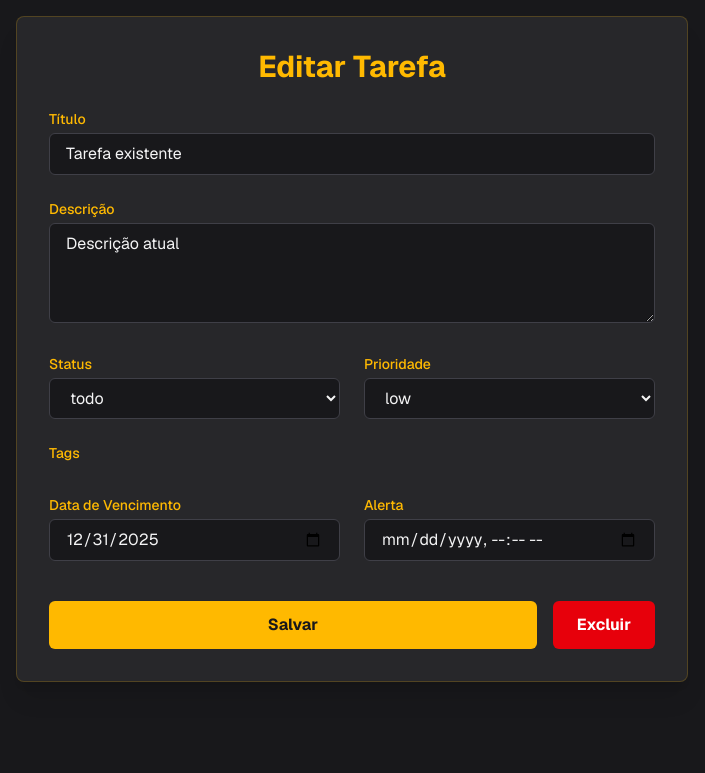
Test: RF8 & RF9 - Editar e Excluir Tarefa (Frontend) › deve exibir mensagem de erro quando API retornar 403
Expected: the field showing "Tarefa existente" is shown, 49,133 -> 655,175
Click the button "Salvar".
click(293, 625)  # box 49,601 -> 537,649
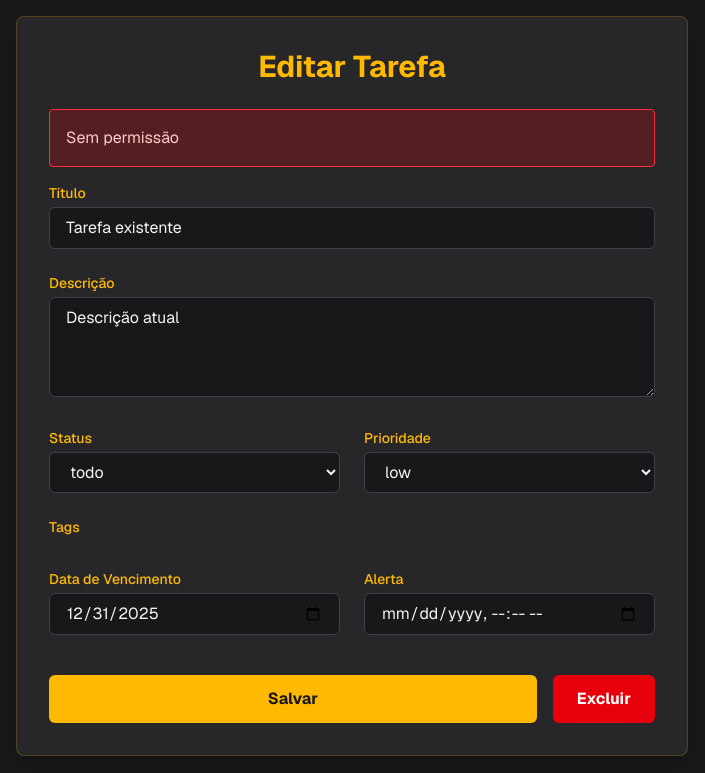
Now the text "Sem permissão" is shown, box 49,109 -> 655,167
